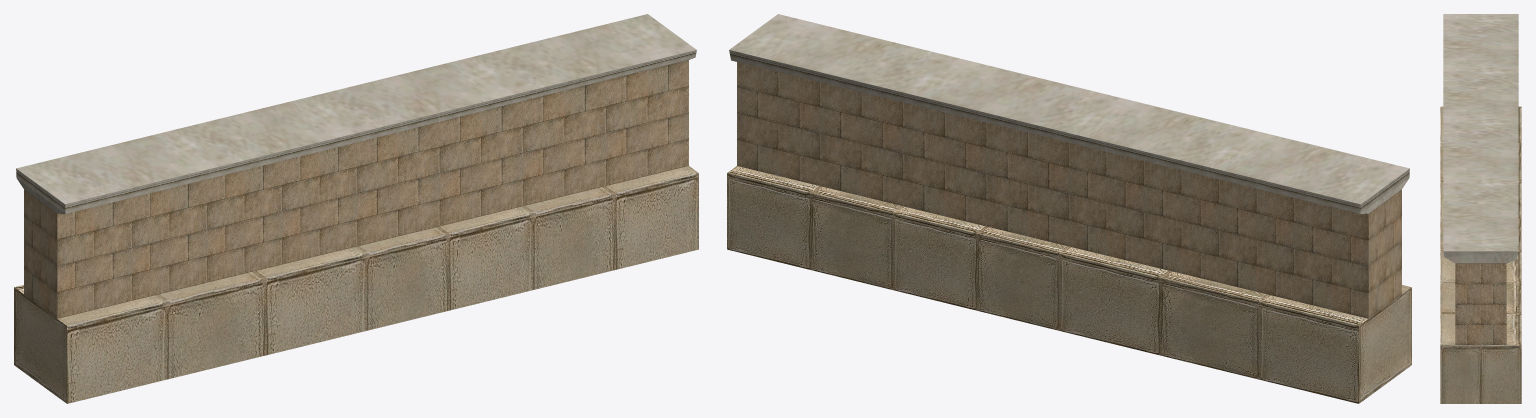
Rendered from thm_nboo_imprv_pristine_wall_sml_s03_l0.fbx.
3 views of the same model, side by side, from view 1: azimuth 30°, elevation 25°; view 2: azimuth 150°, elevation 25°; view 3: azimuth 270°, elevation 25° (orthographic). The views are drawn at different scales.
Visible parts, largest first — view 1: mesh_node; view 2: mesh_node; view 3: mesh_node.
Boxes of the visible parts, bbox=[...] form: mesh_node: bbox=[14, 14, 698, 403]; mesh_node: bbox=[727, 14, 1411, 403]; mesh_node: bbox=[1440, 14, 1521, 403].
Bounding box in the file's own units: 10.01 × 3.01 × 1.45.
